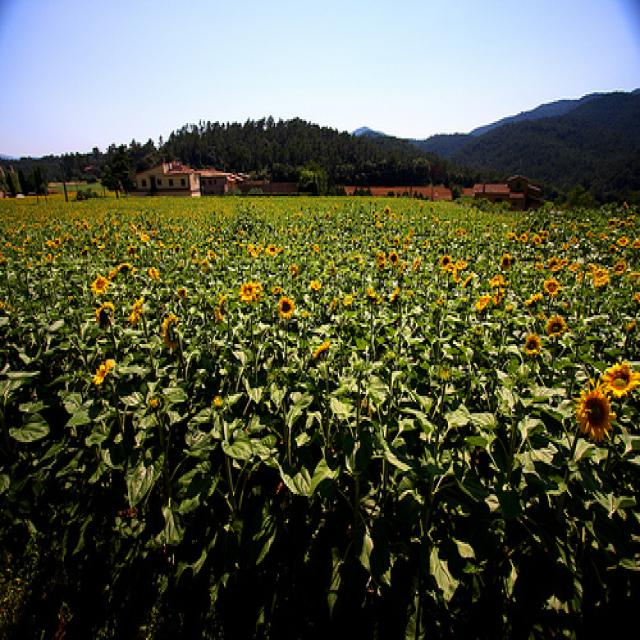sunflower: (568, 380, 614, 446), (598, 354, 640, 404), (274, 290, 296, 325), (545, 308, 567, 342), (542, 271, 564, 302), (87, 271, 110, 300), (521, 327, 540, 361), (261, 234, 280, 262), (591, 262, 608, 290), (238, 282, 259, 302), (614, 230, 631, 252), (388, 244, 402, 267)
